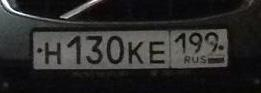license-plateSW: (31, 27, 229, 71)
